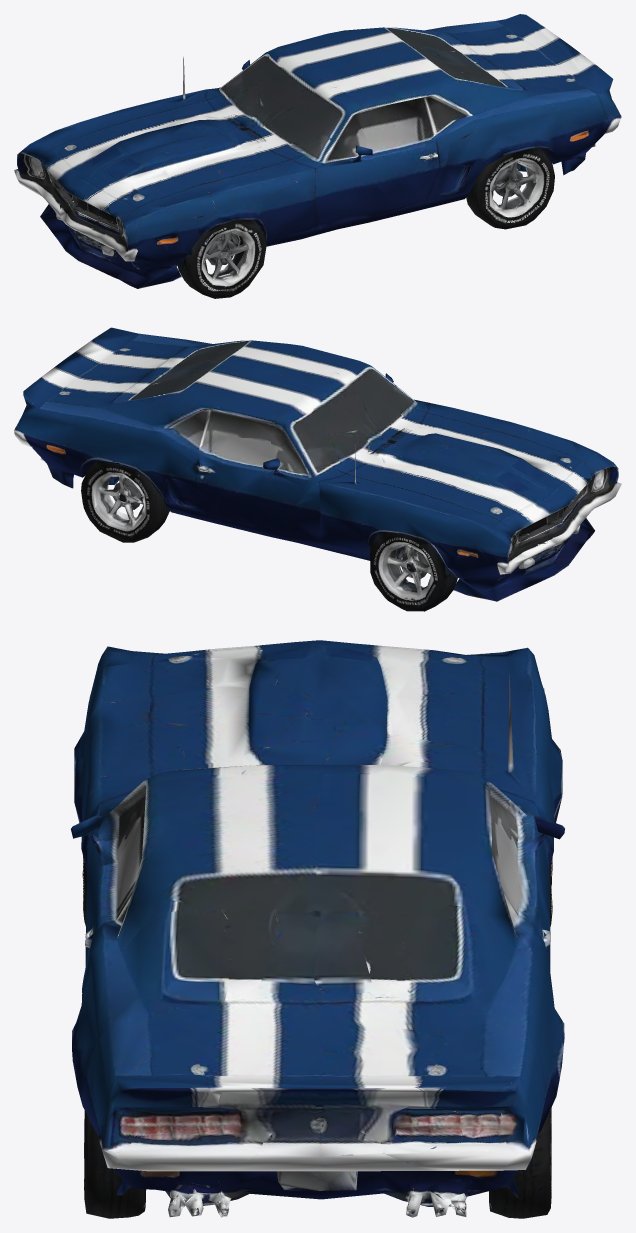
Rendered from r_muscle.glb.
3 views of the same model, one above another, from view 1: azimuth 30°, elevation 25°; view 2: azimuth 150°, elevation 25°; view 3: azimuth 270°, elevation 25° (orthographic). The views are drawn at different scales.
Size of the model in its own units: 1.9 by 0.5687 by 0.8077.
Materials: 1 (1 with a texture image).
